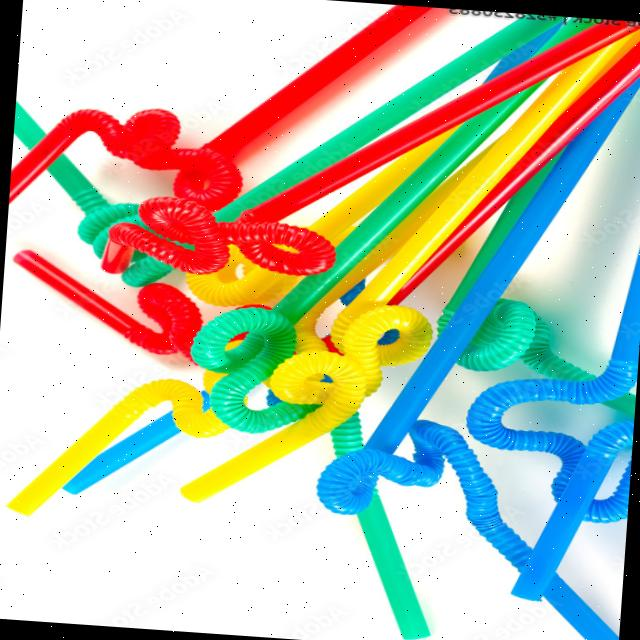plastic: (439, 92, 640, 628)
